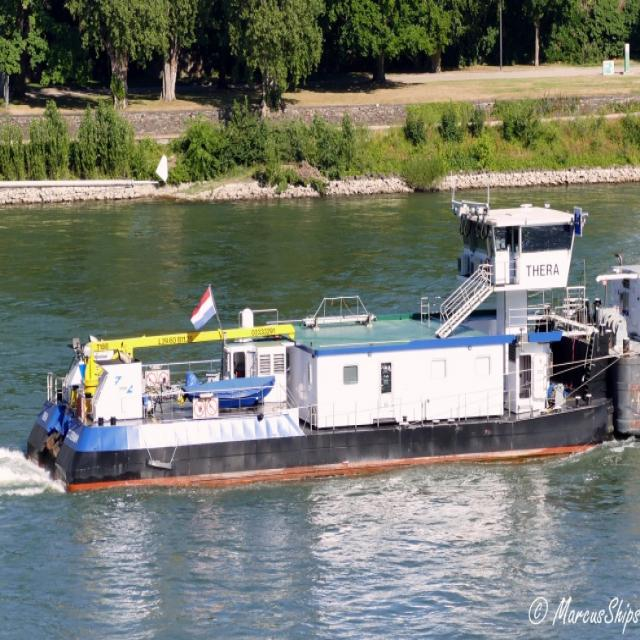tugboat: (26, 160, 627, 502)
